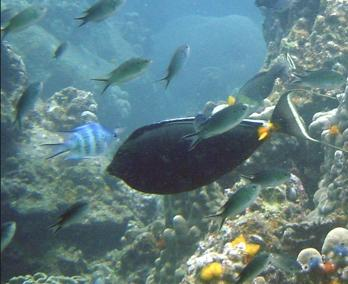Acanthuridae -Surgeonfishes-: (104, 88, 348, 195)
